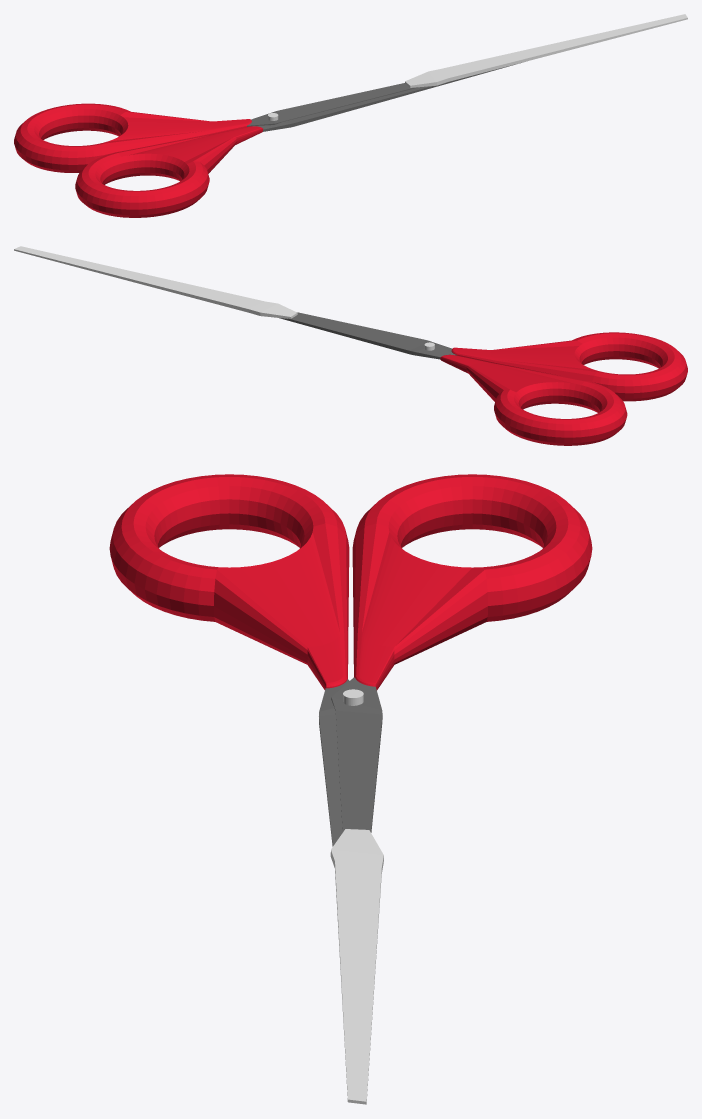
File: ハサミ.fbx
3 renders of one model, top to bottom at view 1: azimuth 30°, elevation 25°; view 2: azimuth 150°, elevation 25°; view 3: azimuth 270°, elevation 25°, orthographic. The views are drawn at different scales.
Visible parts, largest first — view 1: トーラス, トーラス.001, 立方体; view 2: トーラス.001, トーラス, 立方体; view 3: トーラス.001, トーラス, 立方体.
Part boxes in pixels (box(x1,y1,x2,y2)): トーラス: box(75, 62, 521, 217); トーラス.001: box(14, 83, 417, 172); 立方体: box(405, 14, 687, 87); トーラス.001: box(279, 314, 627, 445); トーラス: box(297, 312, 687, 401); 立方体: box(14, 246, 297, 318); トーラス.001: box(331, 474, 592, 832); トーラス: box(109, 474, 349, 846); 立方体: box(330, 829, 383, 1104).
Size of the model in its own units: 1325 by 50 by 438.
